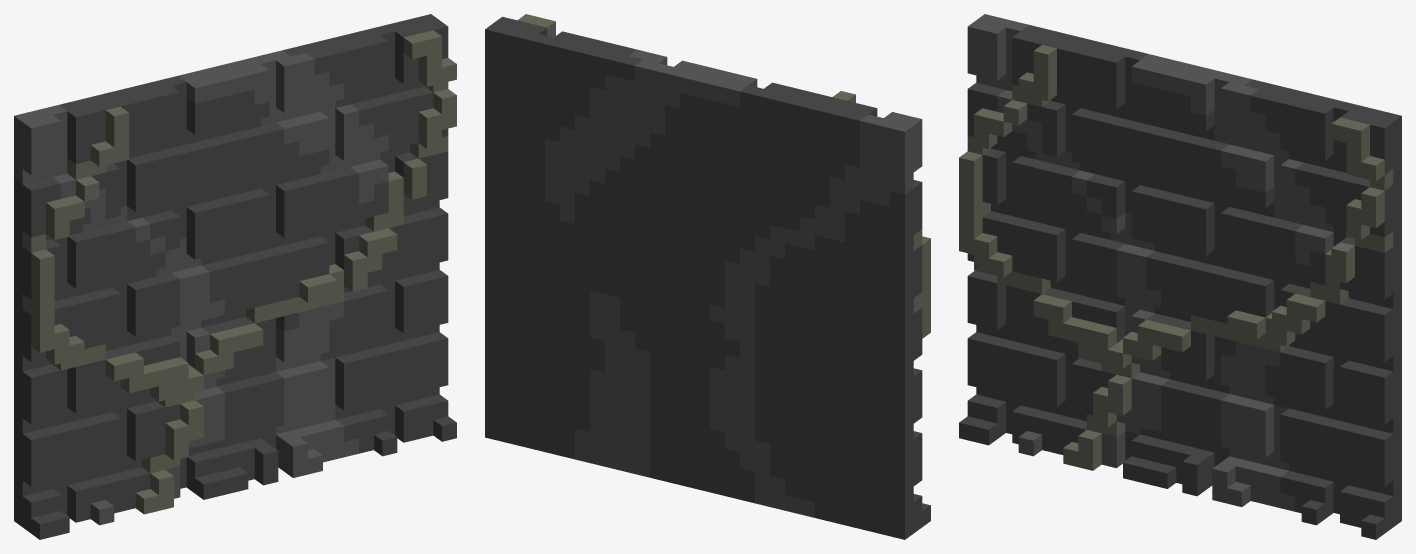
The model's file is Stenka1-33 3.obj.
3 views of the same model, side by side, from view 1: azimuth 30°, elevation 25°; view 2: azimuth 150°, elevation 25°; view 3: azimuth 330°, elevation 25° (orthographic).
Bounding box in the file's own units: 2.8 × 2.6 × 0.3.
Materials: 1 (1 with a texture image).
